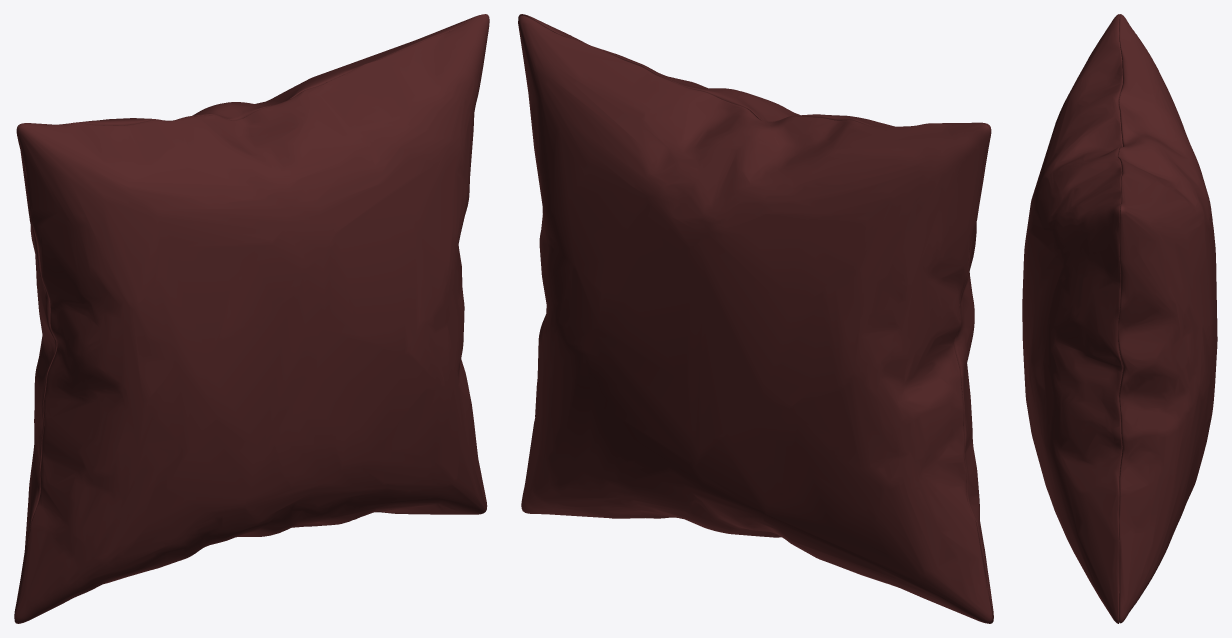
The model's file is cansancio.glb.
3 renders of one model, left to right at view 1: azimuth 30°, elevation 25°; view 2: azimuth 150°, elevation 25°; view 3: azimuth 270°, elevation 25°, orthographic. The views are drawn at different scales.
Visible parts, largest first — view 1: Object_2; view 2: Object_2; view 3: Object_2.
Part boxes in pixels (left/top/right/bottom): Object_2: left=14, top=14, right=489, bottom=623; Object_2: left=518, top=14, right=993, bottom=623; Object_2: left=1022, top=14, right=1217, bottom=623.
Size of the model in its own units: 4.14 by 4.17 by 1.75.
Materials: 1 (1 with a texture image).
